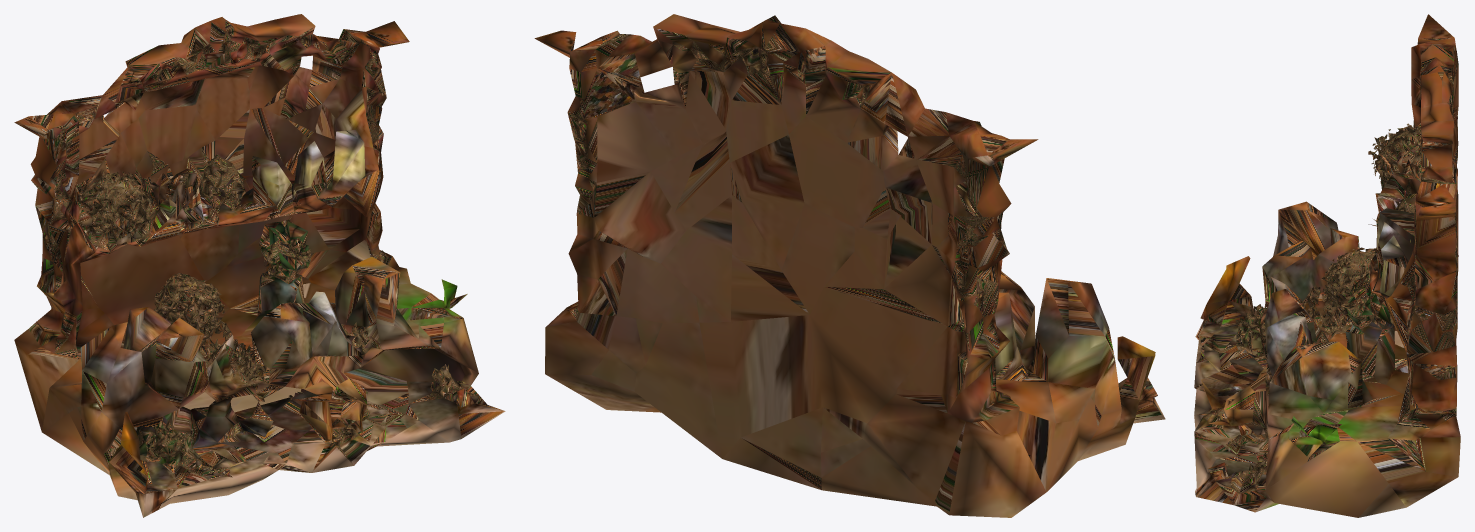
The model's file is bq_apothecary.lod1.glb.
The picture shows the model from 3 angles, left to right: view 1: azimuth 30°, elevation 25°; view 2: azimuth 150°, elevation 25°; view 3: azimuth 270°, elevation 25°; orthographic projection. The views are drawn at different scales.
Size of the model in its own units: 1.99 by 1.75 by 1.16.
Materials: 1 (1 with a texture image).
